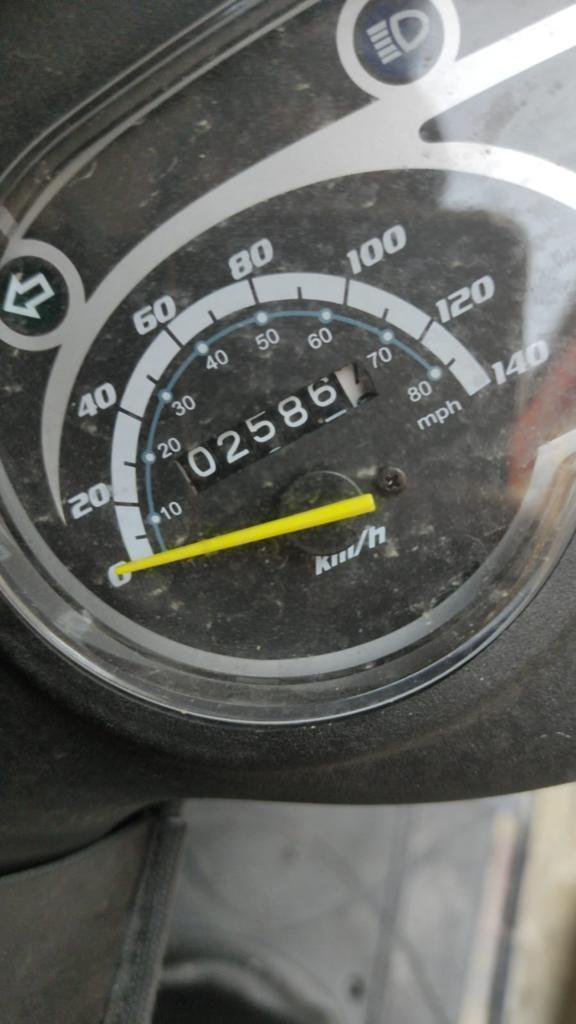0: (187, 445, 217, 476), (181, 393, 199, 412), (214, 348, 231, 365)
2: (214, 428, 252, 468)
4: (203, 355, 219, 374)
5: (241, 412, 278, 446)
6: (304, 374, 336, 408)
7: (335, 360, 365, 389), (366, 350, 379, 369)
8: (276, 391, 309, 429)
odometer: (181, 352, 382, 500)
